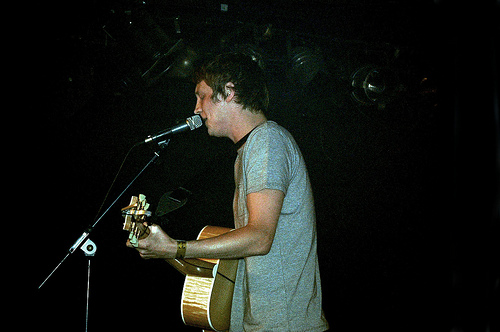guitar: (121, 188, 241, 332)
